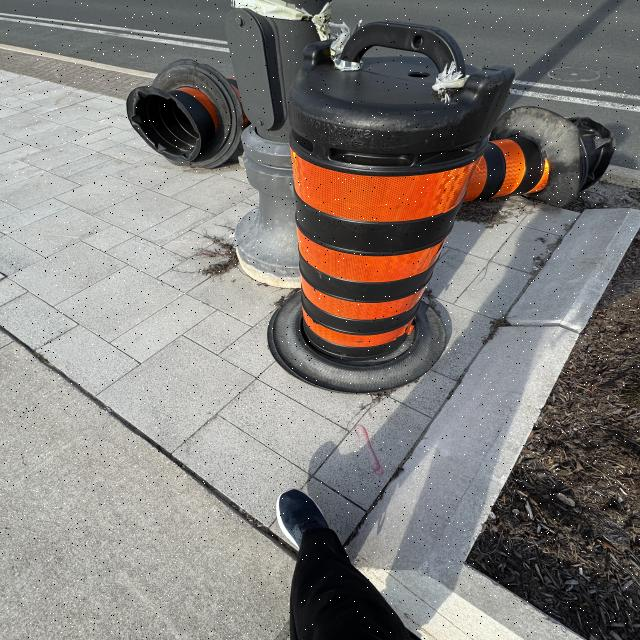Teraffic Barrel: (269, 22, 514, 392), (226, 0, 331, 287), (465, 106, 615, 206), (127, 60, 248, 168), (464, 136, 550, 201)
